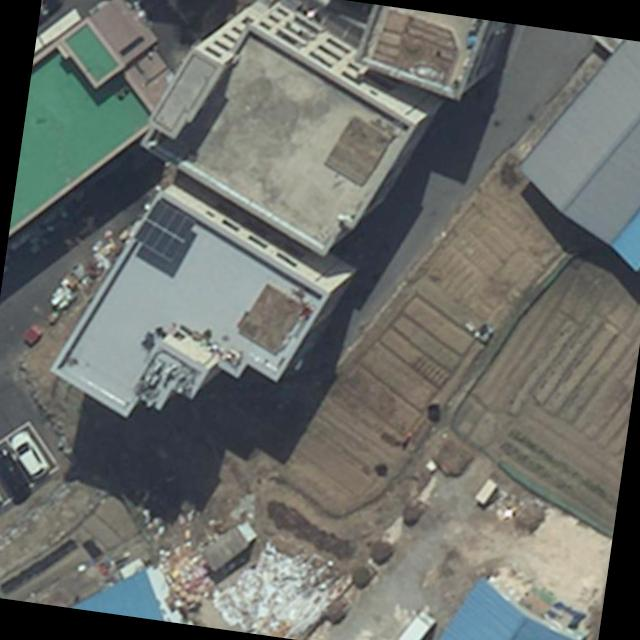solar: (128, 196, 199, 266)
